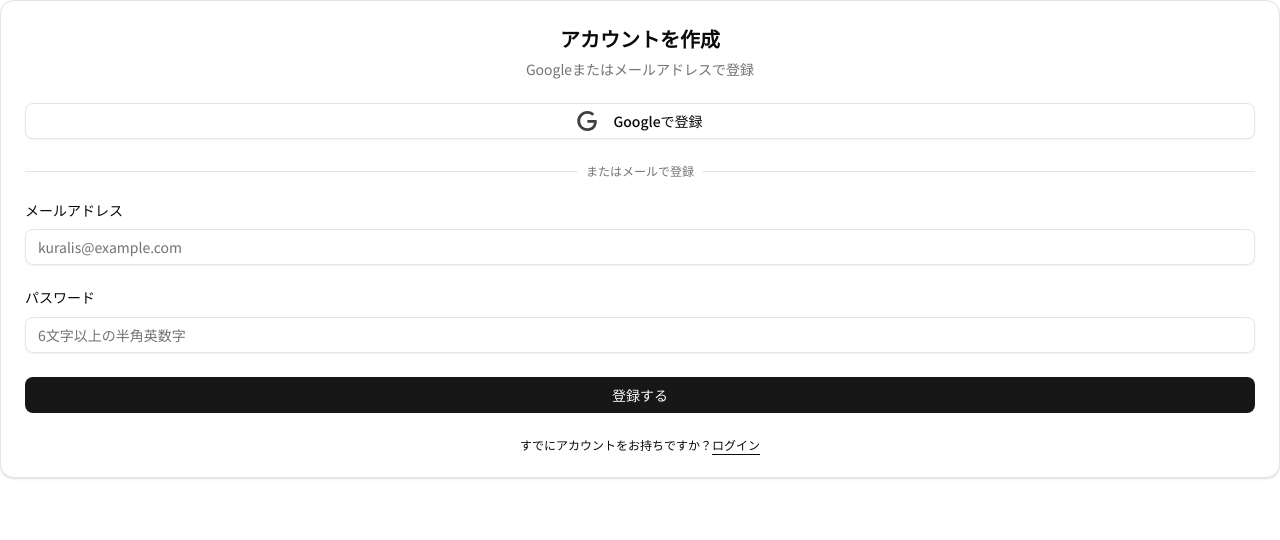
it: SignupForm › メール・パスワード登録 › 登録失敗時、エラーメッセージが表示される
In the field labelled "メールアドレス": (640, 247) [25,229,1255,265], type "test@example.com"
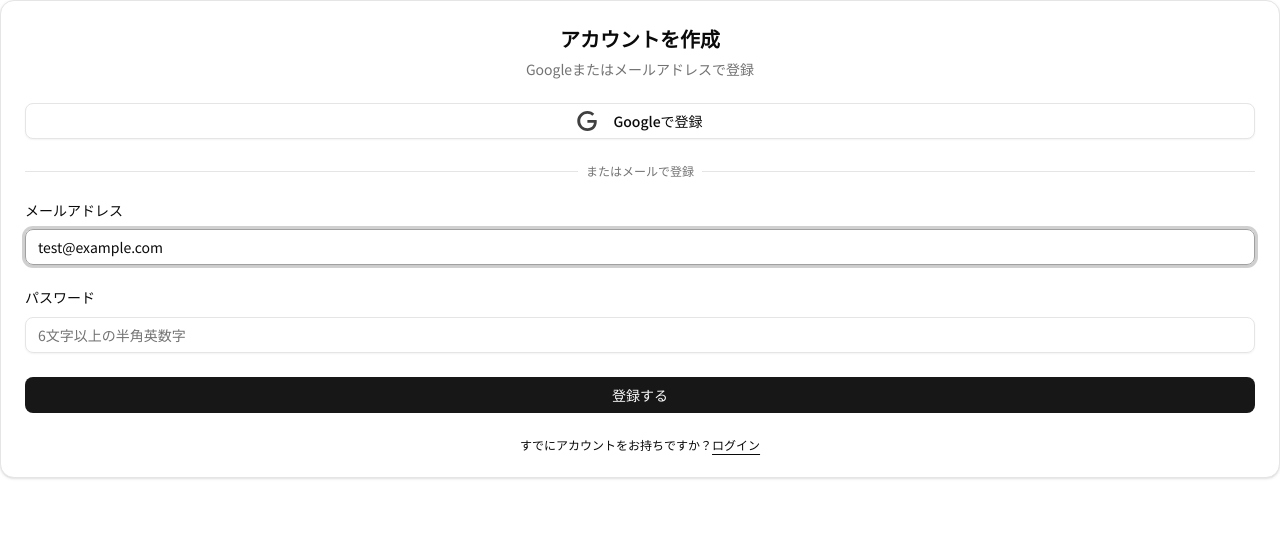
In the password field labelled "パスワード": (640, 335) [25,317,1255,353], type "wrongpassword"
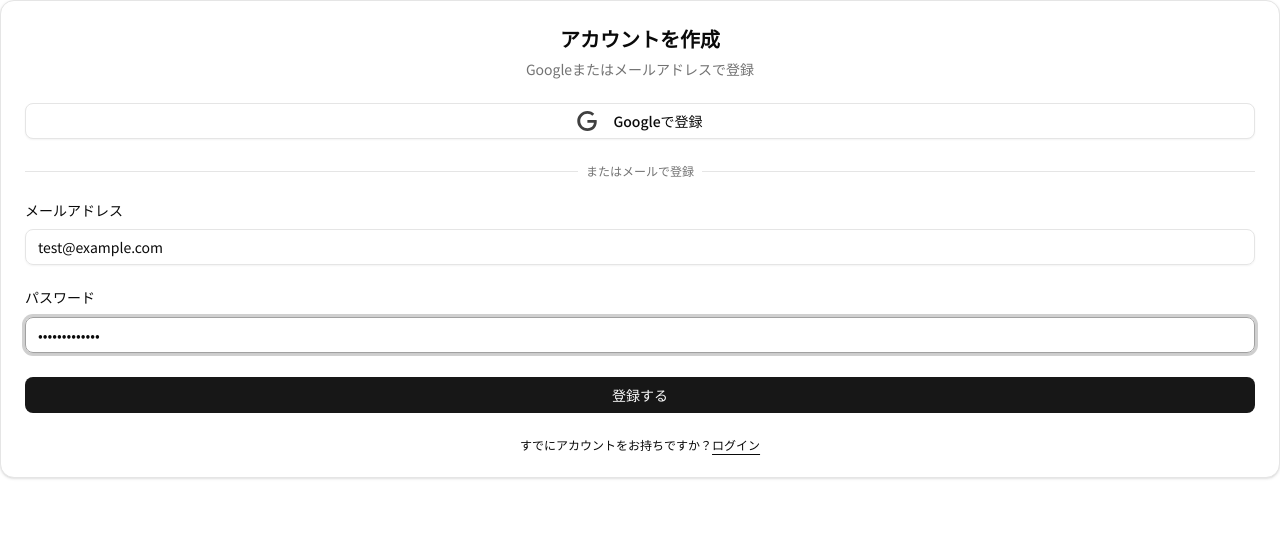
Click the button "登録する": (640, 395) [25,377,1255,413]
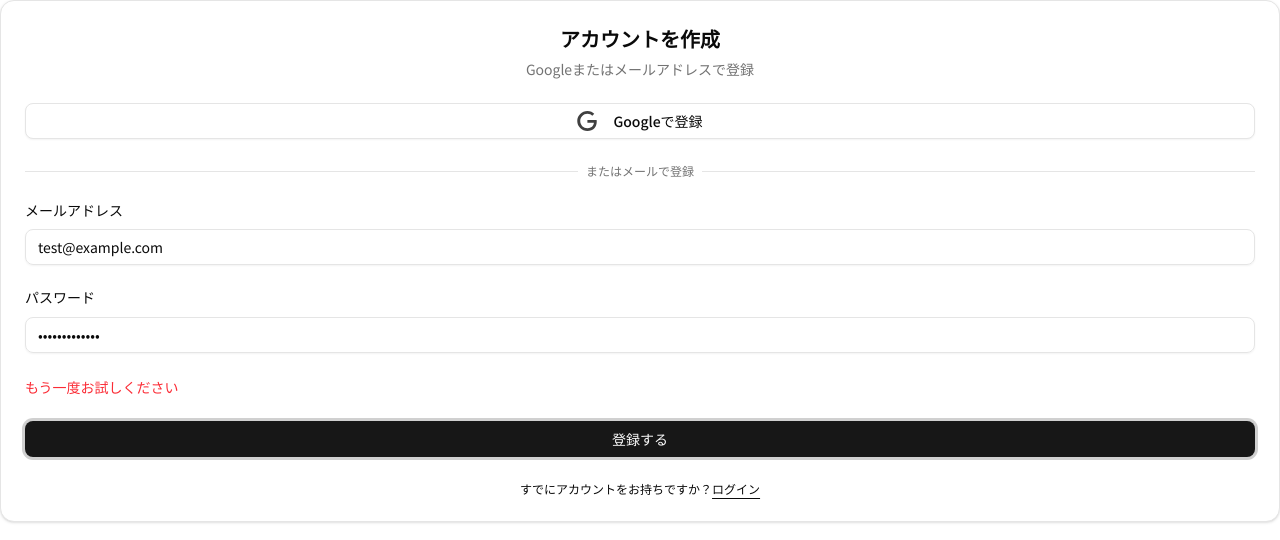
Now the text "もう一度お試しください" is shown, box [25,377,179,397]
